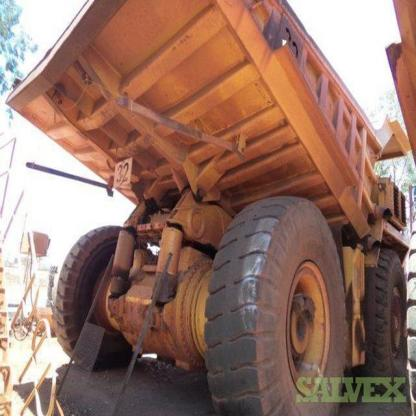dump_truck: (2, 3, 408, 415)
